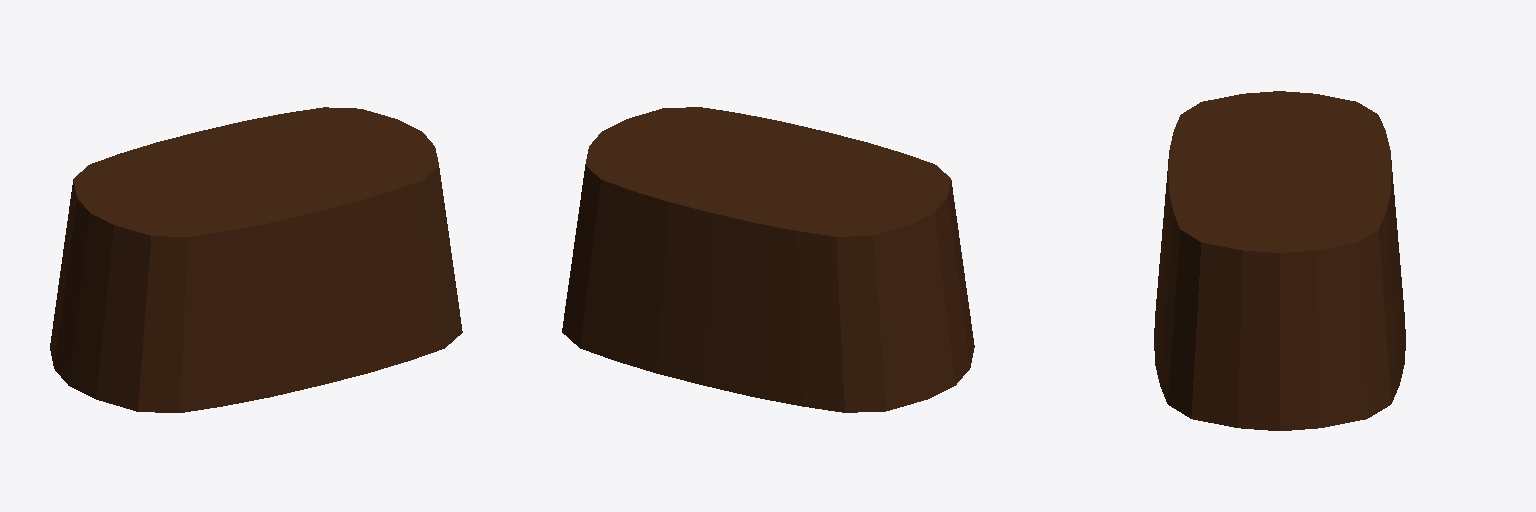
The model's file is Cliff.obj.
3 views of the same model, side by side, from view 1: azimuth 30°, elevation 25°; view 2: azimuth 150°, elevation 25°; view 3: azimuth 270°, elevation 25° (orthographic).
Parts seen in each view (by area): view 1: Cliff; view 2: Cliff; view 3: Cliff.
Part boxes in pixels (bbox=[...]): Cliff: bbox=[50, 107, 462, 412]; Cliff: bbox=[562, 107, 974, 412]; Cliff: bbox=[1154, 91, 1405, 430].
Size of the model in its own units: 30.04 by 12.83 by 17.48.